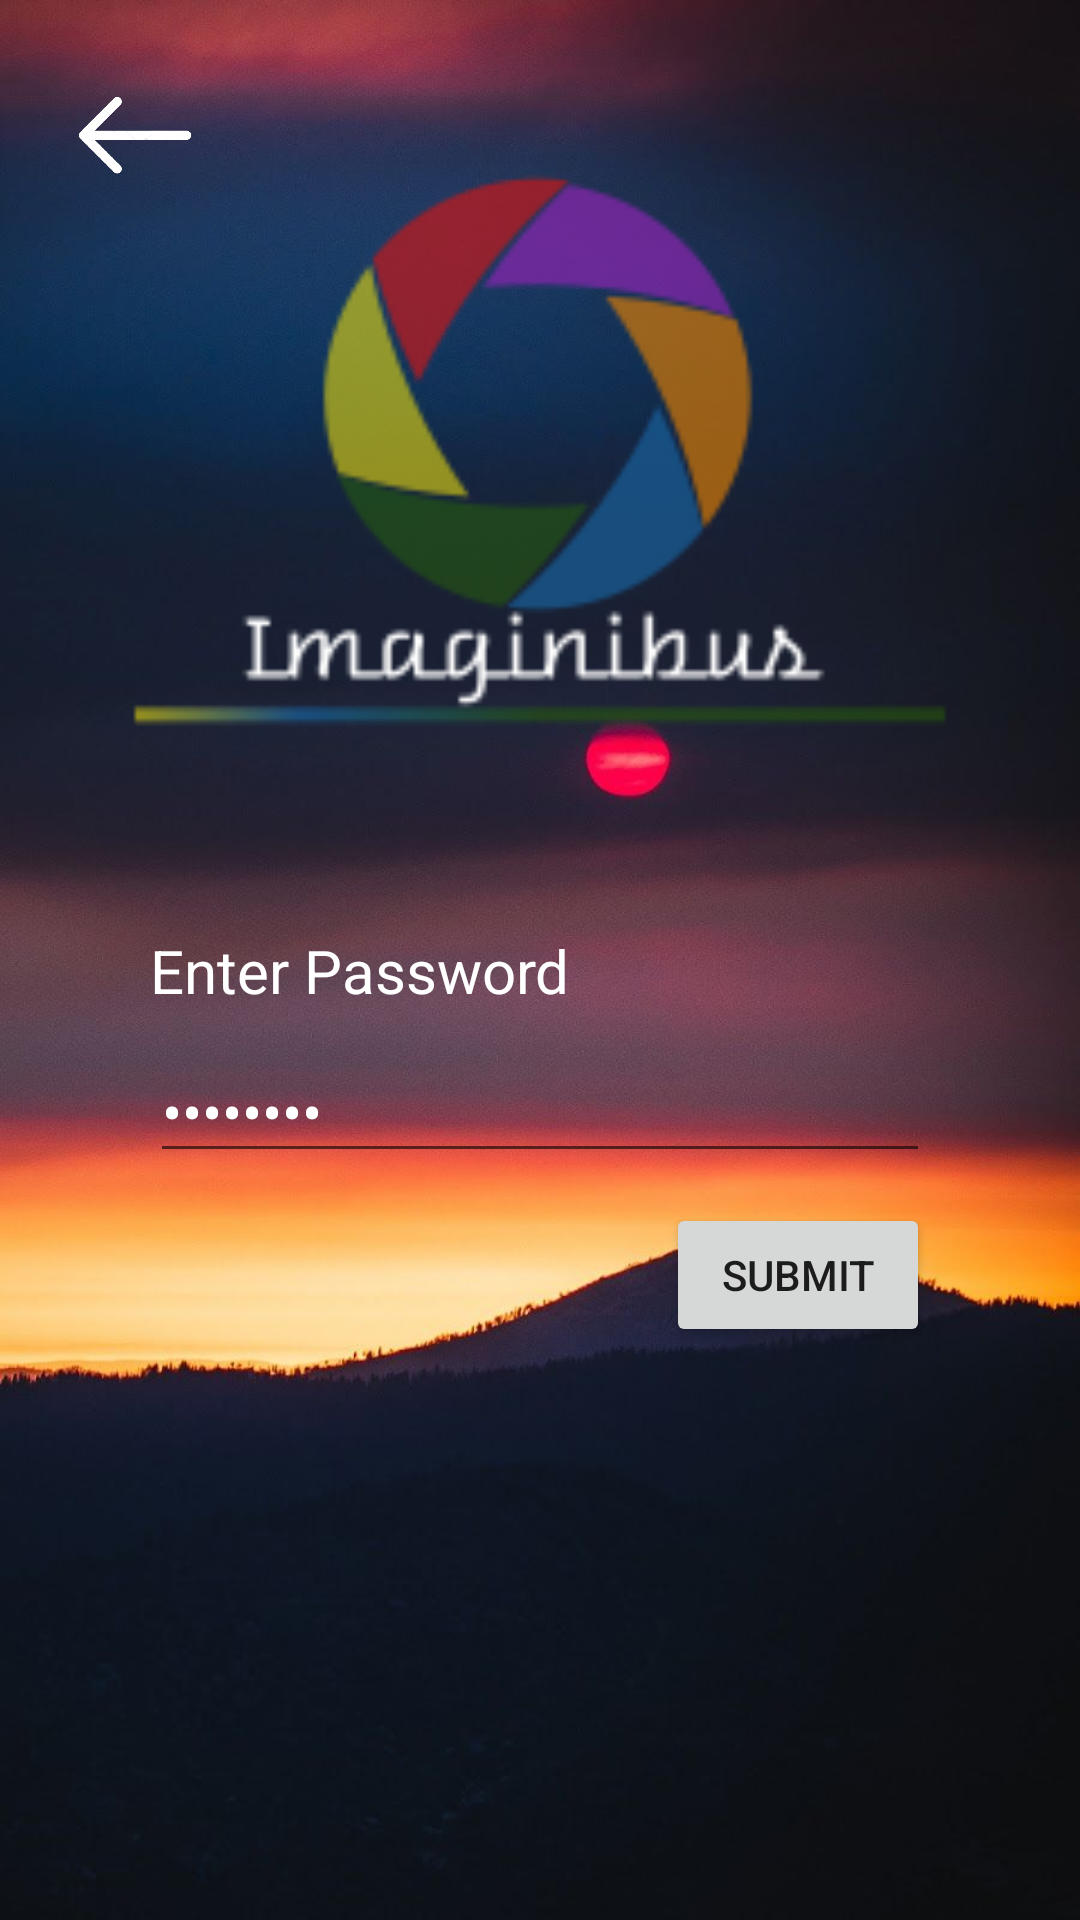

Screen size 1080x1920. Icon name, then its center in pixels as [x,y]:
back: [135,135]
